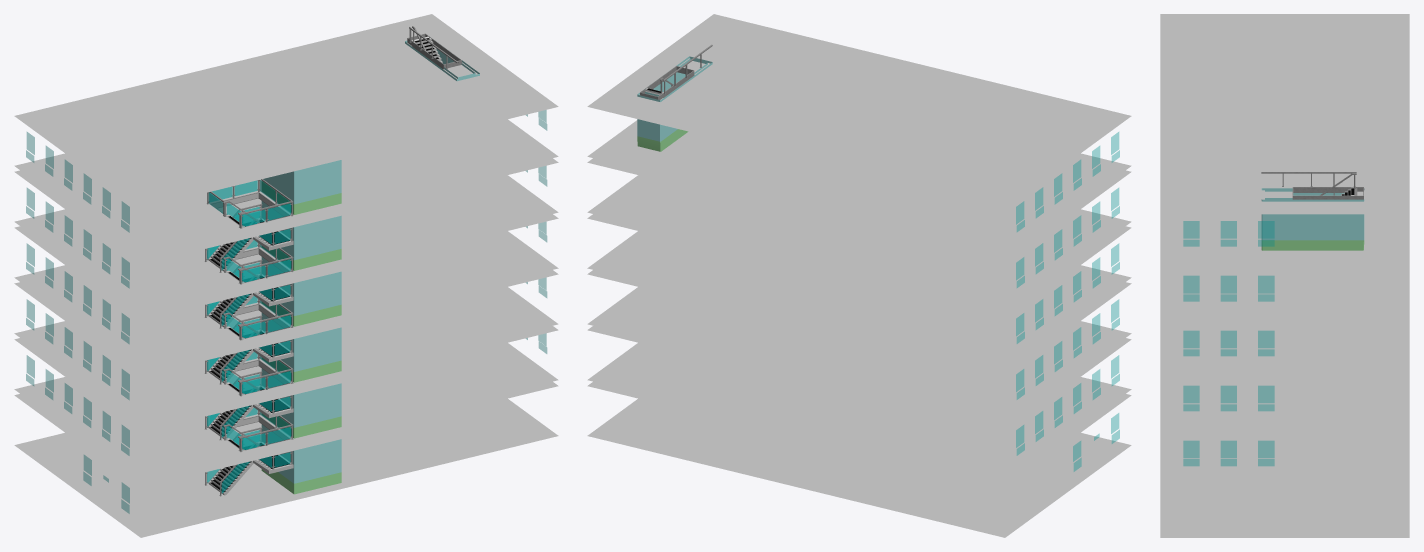
File: SM_Building08_V3_Interior.fbx
The picture shows the model from 3 angles, left to right: view 1: azimuth 30°, elevation 25°; view 2: azimuth 150°, elevation 25°; view 3: azimuth 270°, elevation 25°; orthographic projection.
Visible parts, largest first — view 1: SM_Building08_V3_Interior; view 2: SM_Building08_V3_Interior; view 3: SM_Building08_V3_Interior.
Part boxes in pixels (x1,y1,x2,y2): SM_Building08_V3_Interior: (14,14,558,537); SM_Building08_V3_Interior: (587,14,1131,537); SM_Building08_V3_Interior: (1160,14,1409,537).
Size of the model in its own units: 3172 by 2631 by 1666.
